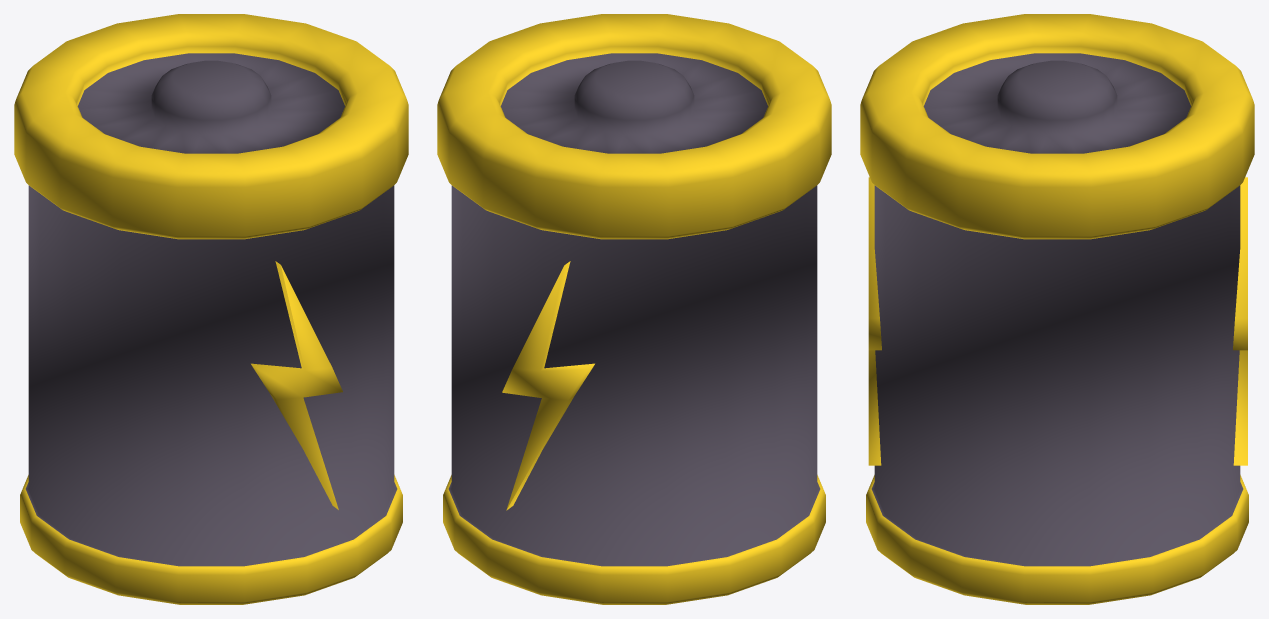
Rendered from Battery.fbx.
3 renders of one model, left to right at view 1: azimuth 30°, elevation 25°; view 2: azimuth 150°, elevation 25°; view 3: azimuth 270°, elevation 25°, orthographic.
Parts seen in each view (by area): view 1: Circle; view 2: Circle; view 3: Circle.
Part boxes in pixels (x1,y1,x2,y2): Circle: (14, 14, 408, 604); Circle: (437, 14, 831, 604); Circle: (860, 14, 1254, 604).
Bounding box in the file's own units: 203 × 261 × 206.
